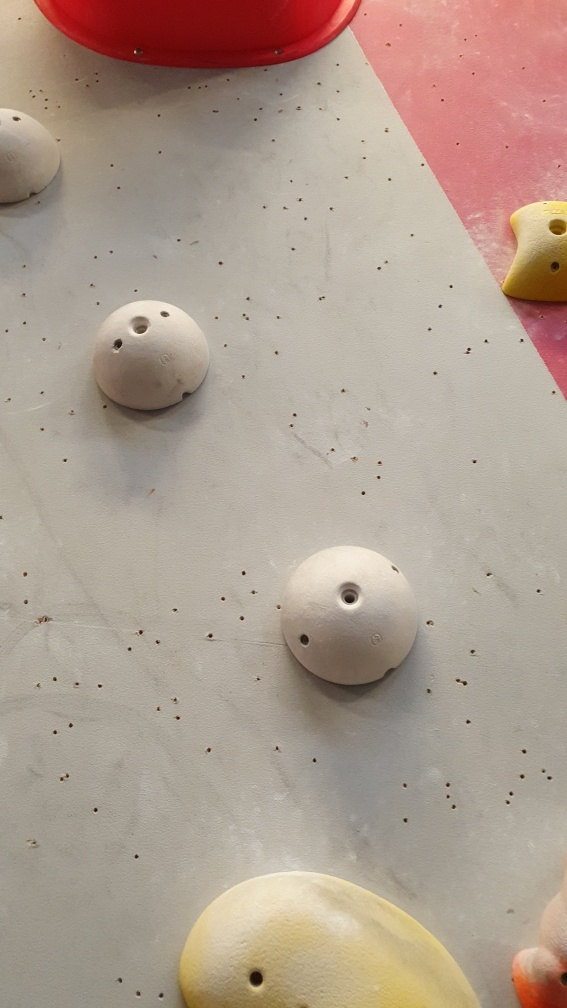Pinch: (502, 198, 567, 314)
Sloper: (283, 541, 417, 691), (90, 299, 215, 418), (1, 104, 63, 211)
